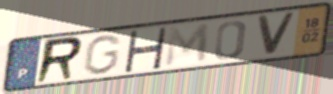0: (212, 19, 249, 61)
G: (81, 33, 124, 77)
H: (121, 26, 169, 73)
M: (163, 21, 211, 69)
R: (32, 35, 86, 86)
V: (255, 11, 298, 57)
